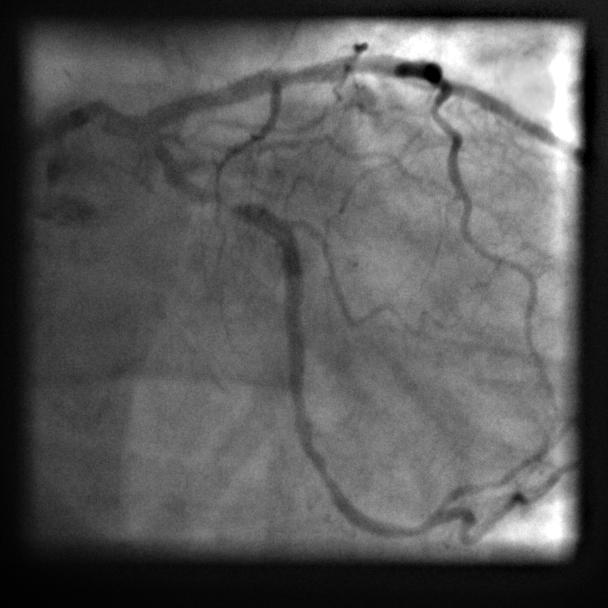Stenosis: (214, 190, 238, 210)
